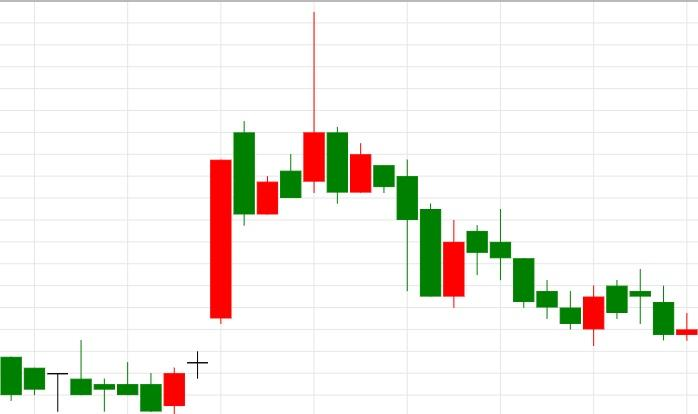bullish_engulfing_rise: (466, 208, 605, 346)
